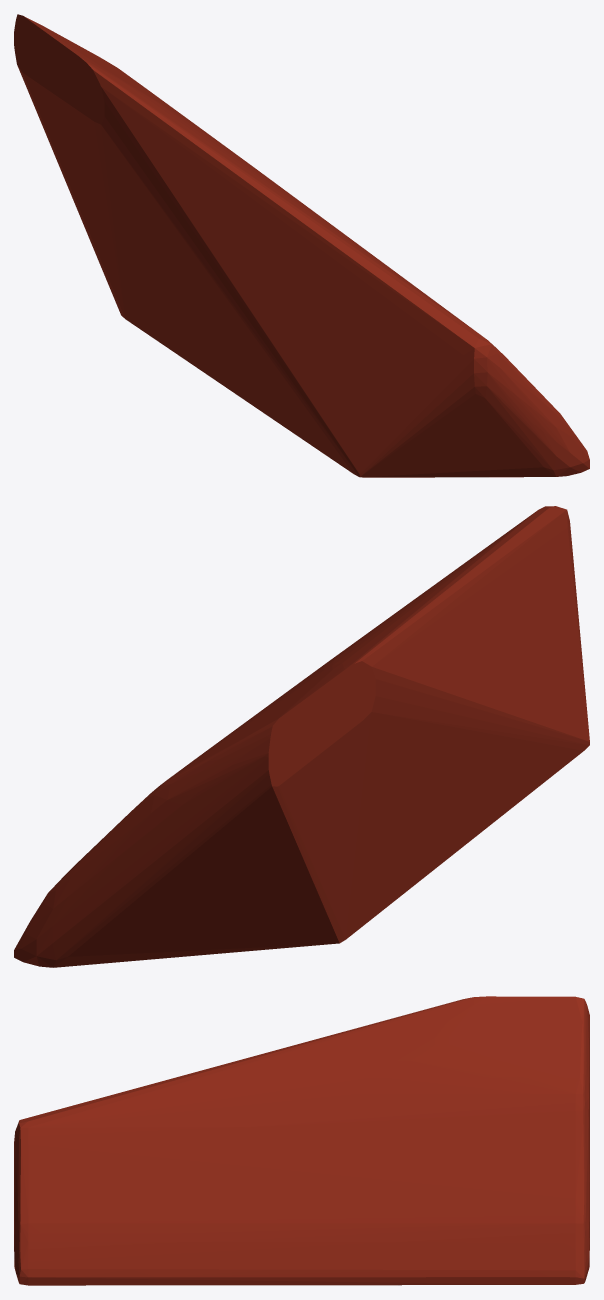
Rendered from left_shoulder_roll_link_part_15.obj.
3 views of the same model, one above another, from view 1: azimuth 30°, elevation 25°; view 2: azimuth 150°, elevation 25°; view 3: azimuth 270°, elevation 25° (orthographic). The views are drawn at different scales.
Size of the model in its own units: 0.0158 by 0.0175 by 0.0445.
